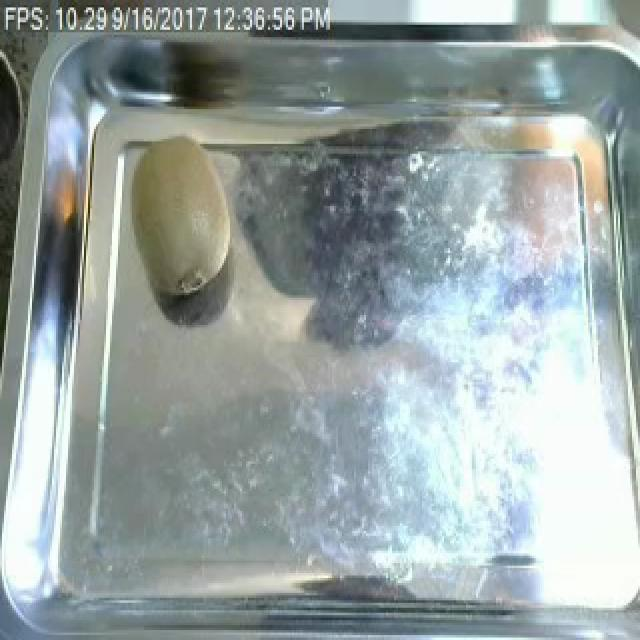Fruit: (98, 132, 244, 310)
